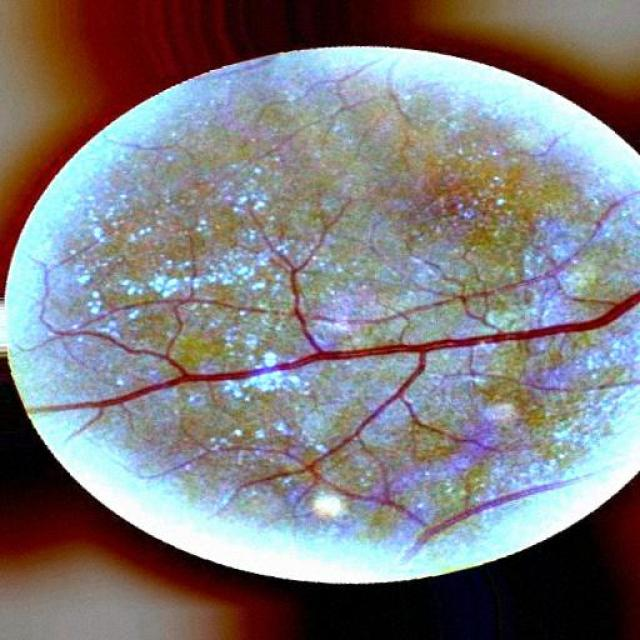Nerves: (26, 250, 639, 499), (416, 485, 552, 544)
